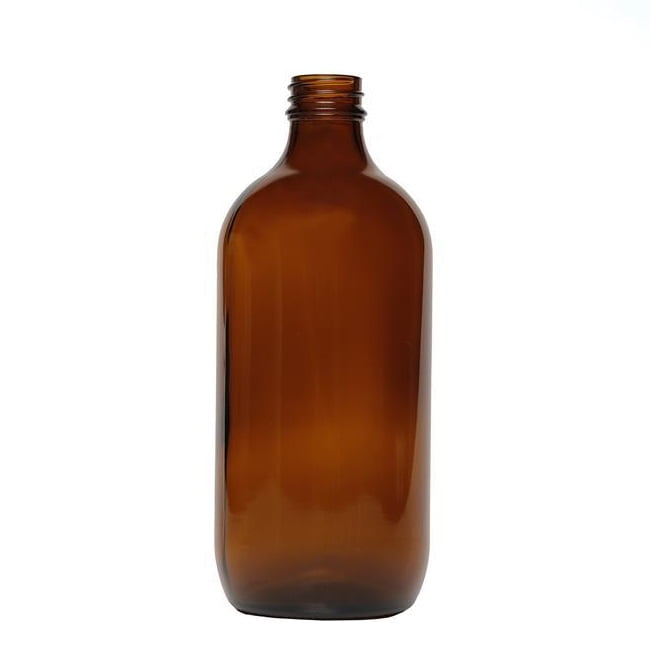glass_bottle: (202, 65, 451, 627)
